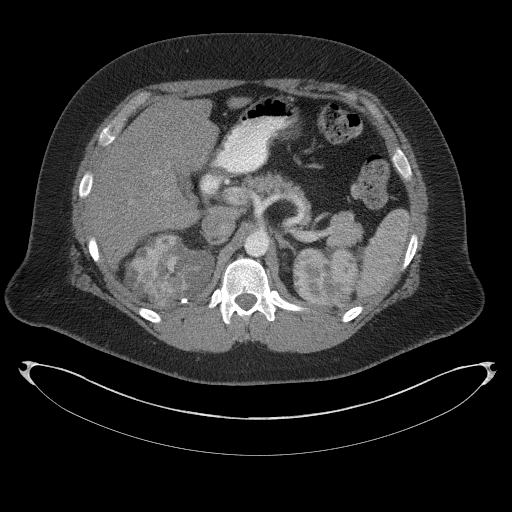Lesion: (139, 273, 185, 314)
